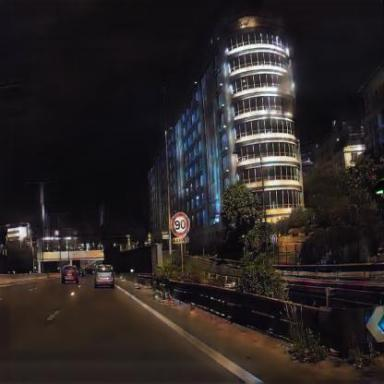Speed_limit_90: (171, 212, 190, 239)
